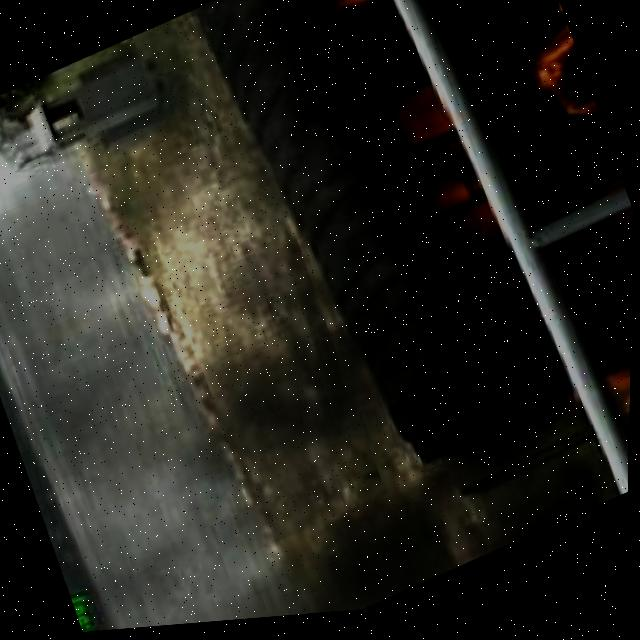Fire: (375, 52, 503, 276), (448, 0, 603, 154), (516, 330, 587, 435), (602, 353, 633, 500), (593, 168, 636, 247)
Smoke: (0, 18, 568, 640)
